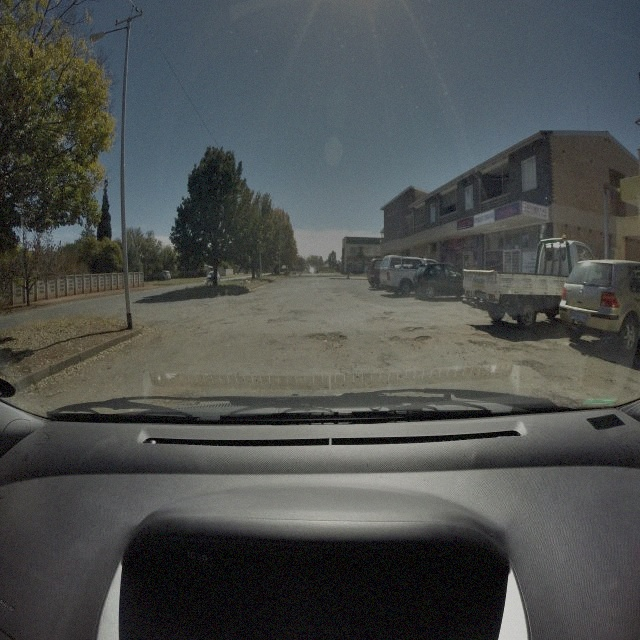pothole: (512, 356, 549, 377), (304, 330, 348, 344), (467, 337, 499, 352), (268, 314, 296, 324), (413, 333, 432, 344), (288, 306, 310, 315), (401, 325, 425, 333), (384, 309, 396, 319), (390, 335, 401, 345)
